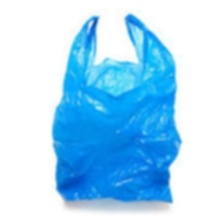plastic_bag: (47, 5, 186, 208)
